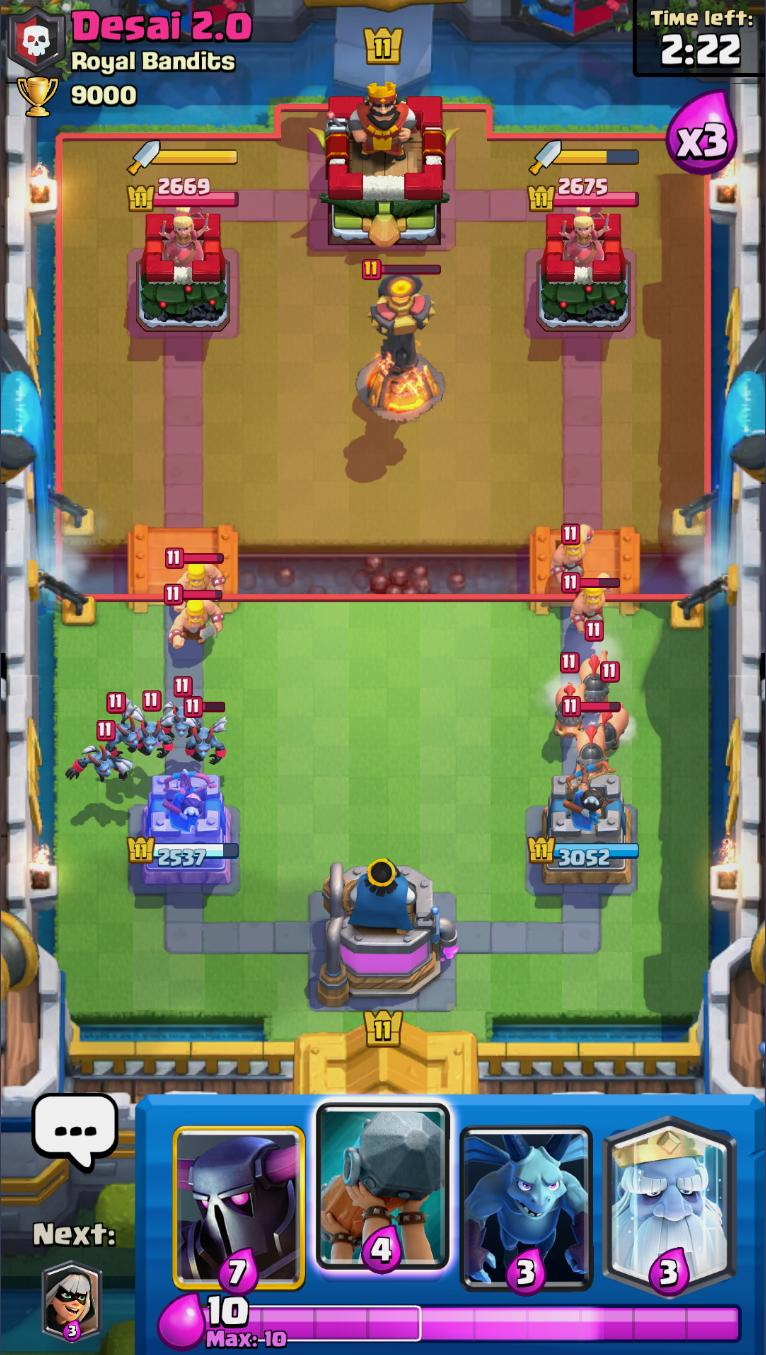BanditNext: (41, 1264, 103, 1343)
Barbarian: (163, 581, 229, 651), (560, 571, 620, 631), (163, 546, 227, 593), (550, 520, 597, 584)
BattleRamDeck: (313, 1099, 451, 1297)
DaggerDuchess: (157, 206, 210, 266), (557, 206, 611, 264)
Daggers: (126, 140, 240, 176), (531, 139, 640, 173)
Elixir: (203, 1294, 744, 1351)
EnemyTower: (136, 214, 234, 334), (539, 211, 633, 333)
Inferno: (353, 259, 449, 426)
KingTower: (320, 74, 451, 251)
Minion: (66, 719, 134, 786), (130, 689, 174, 760), (180, 696, 224, 767), (104, 690, 144, 757), (160, 674, 200, 740)
MinionsDeck: (454, 1096, 600, 1296)
MyKingTower: (314, 859, 460, 1011)
MyPrincessTower: (124, 770, 240, 893), (527, 771, 641, 889)
MyPrincessTowerHP: (126, 837, 240, 866), (526, 837, 640, 866)
PekkaDeck: (166, 1096, 311, 1294)
RoyaleGhostDeck: (597, 1094, 741, 1299)
RoyalePig: (560, 699, 620, 773), (551, 650, 587, 743), (576, 620, 614, 701), (597, 661, 629, 753)
TowerPrincessHP: (127, 174, 240, 210), (530, 176, 641, 210)
